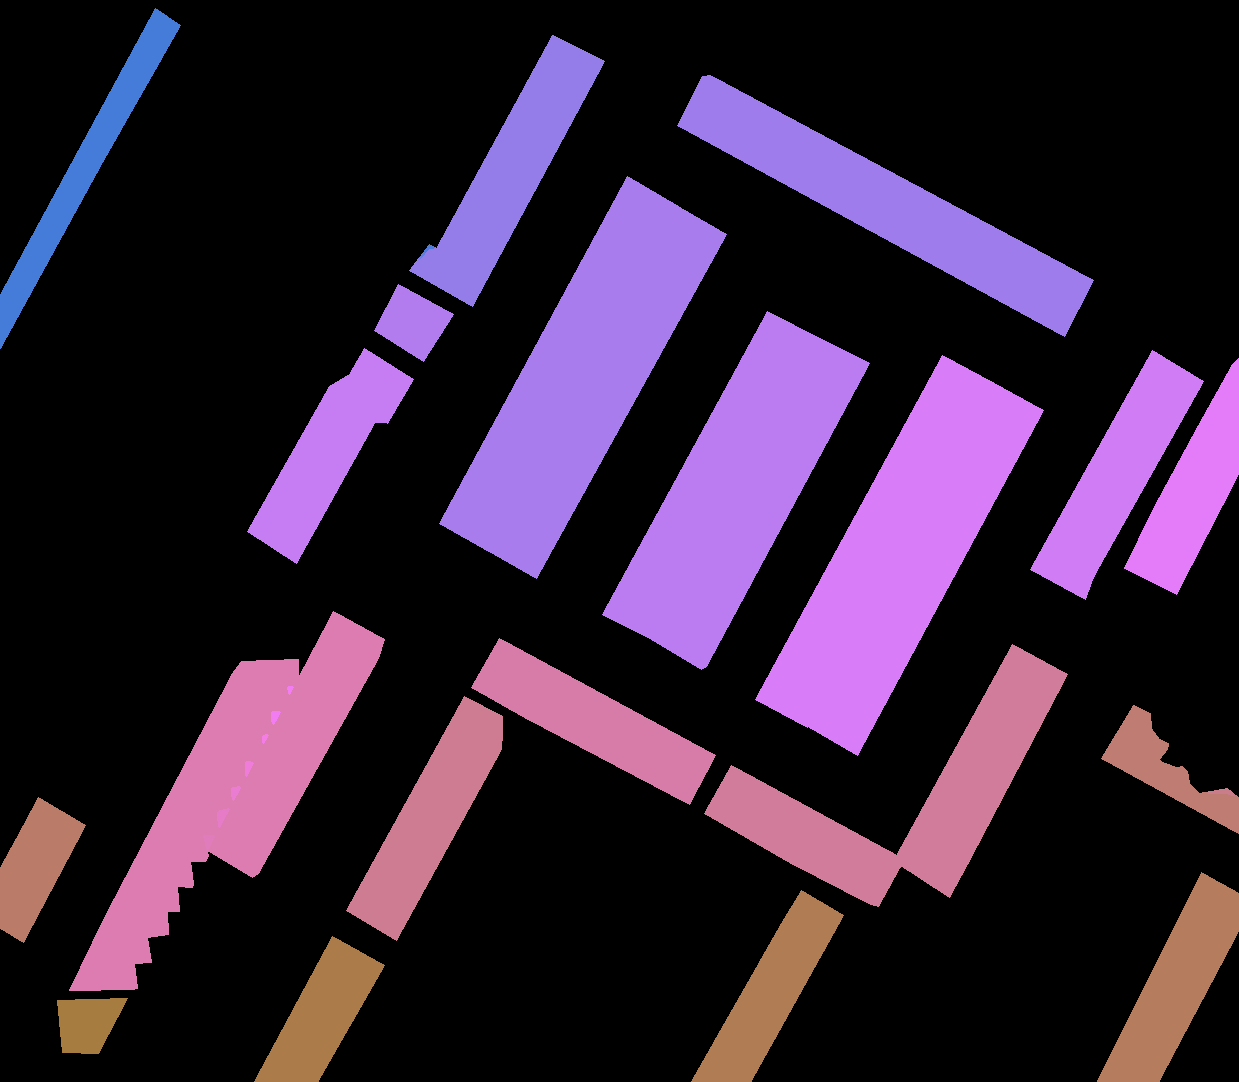parkingspot: (677, 75, 1093, 336), (439, 176, 678, 552), (487, 204, 726, 578), (804, 382, 1043, 755), (755, 355, 994, 727), (68, 660, 298, 990), (651, 336, 869, 669), (602, 311, 819, 641), (0, 8, 180, 348), (409, 35, 604, 306), (206, 611, 383, 877), (894, 644, 1067, 897), (1030, 350, 1203, 599), (471, 638, 715, 804), (346, 696, 501, 940), (247, 348, 413, 563), (1097, 872, 1239, 1082), (691, 890, 843, 1082), (704, 765, 904, 906), (1124, 358, 1239, 594), (254, 936, 383, 1082), (1101, 705, 1239, 833), (0, 796, 85, 942), (374, 284, 453, 361), (57, 998, 127, 1053)
